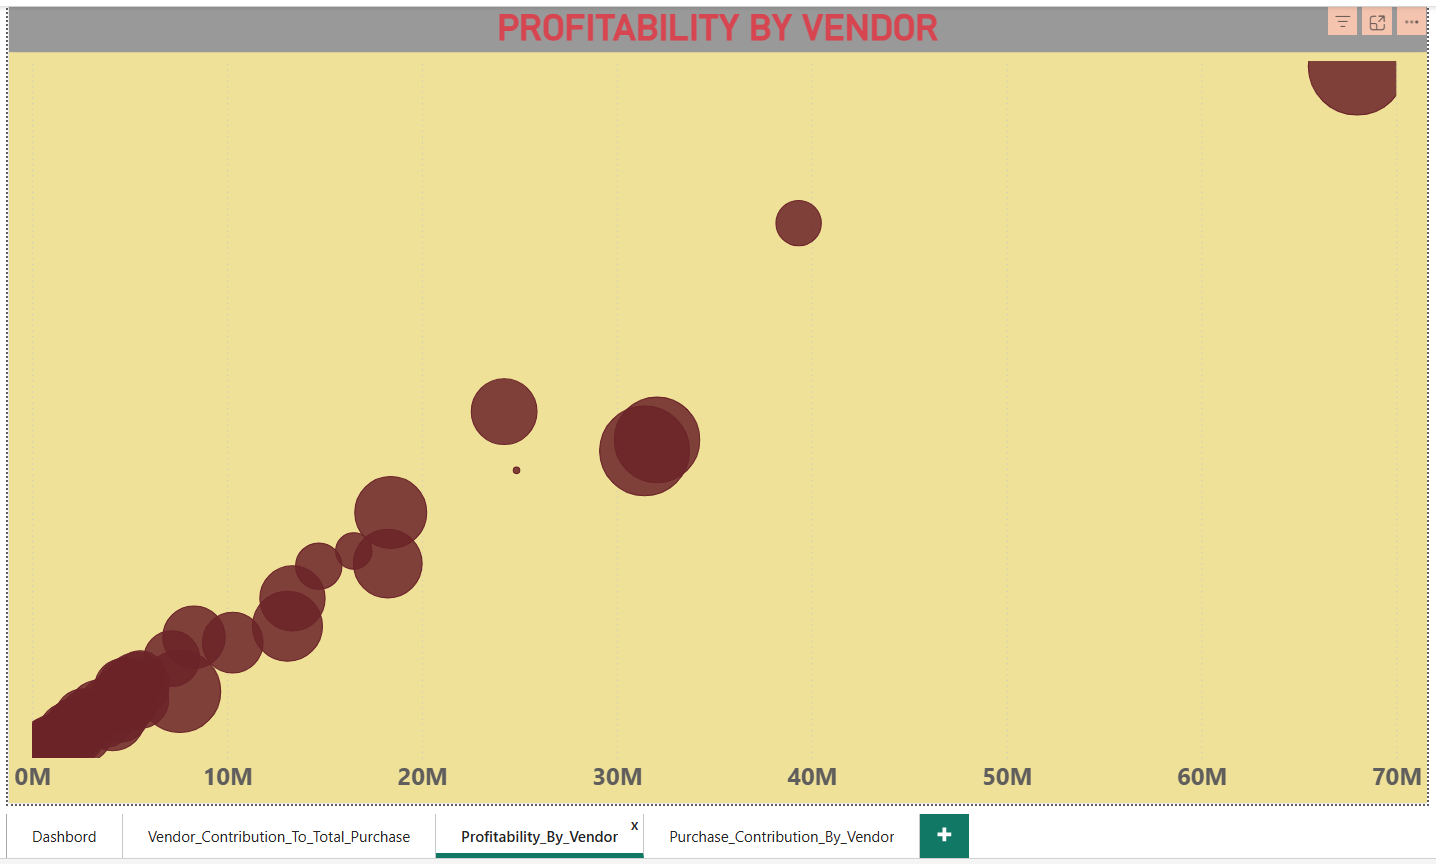

The dashboard page shown, as its layout file describes it:
{"tool":"powerbi","page":{"name":"Profitability_By_Vendor","canvas":[1280,720],"ordinal":2},"visuals":[{"type":"scatterChart","title":"PROFITABILITY BY VENDOR","fields":{"X":["Sum(final_vendor_analysis.TotalSalesDollars)"],"Y":["Sum(final_vendor_analysis.GrossProfit)"],"Size":["Sum(final_vendor_analysis.UnsoldInventoryValue)"],"Category":["final_vendor_analysis.VendorName"]},"box":[0,0,1280,720.3],"z":0}]}

Visuals, with their boxes on the page's 1280x720 design canvas (x1, y1, x2, y2). These are canvas units, not pixel positions in the 1436x864 screenshot, which may show the page scaled, cropped or inside an application window:
"PROFITABILITY BY VENDOR" scatterChart: pyautogui.locateOnScreen(0, 0, 1280, 720)
